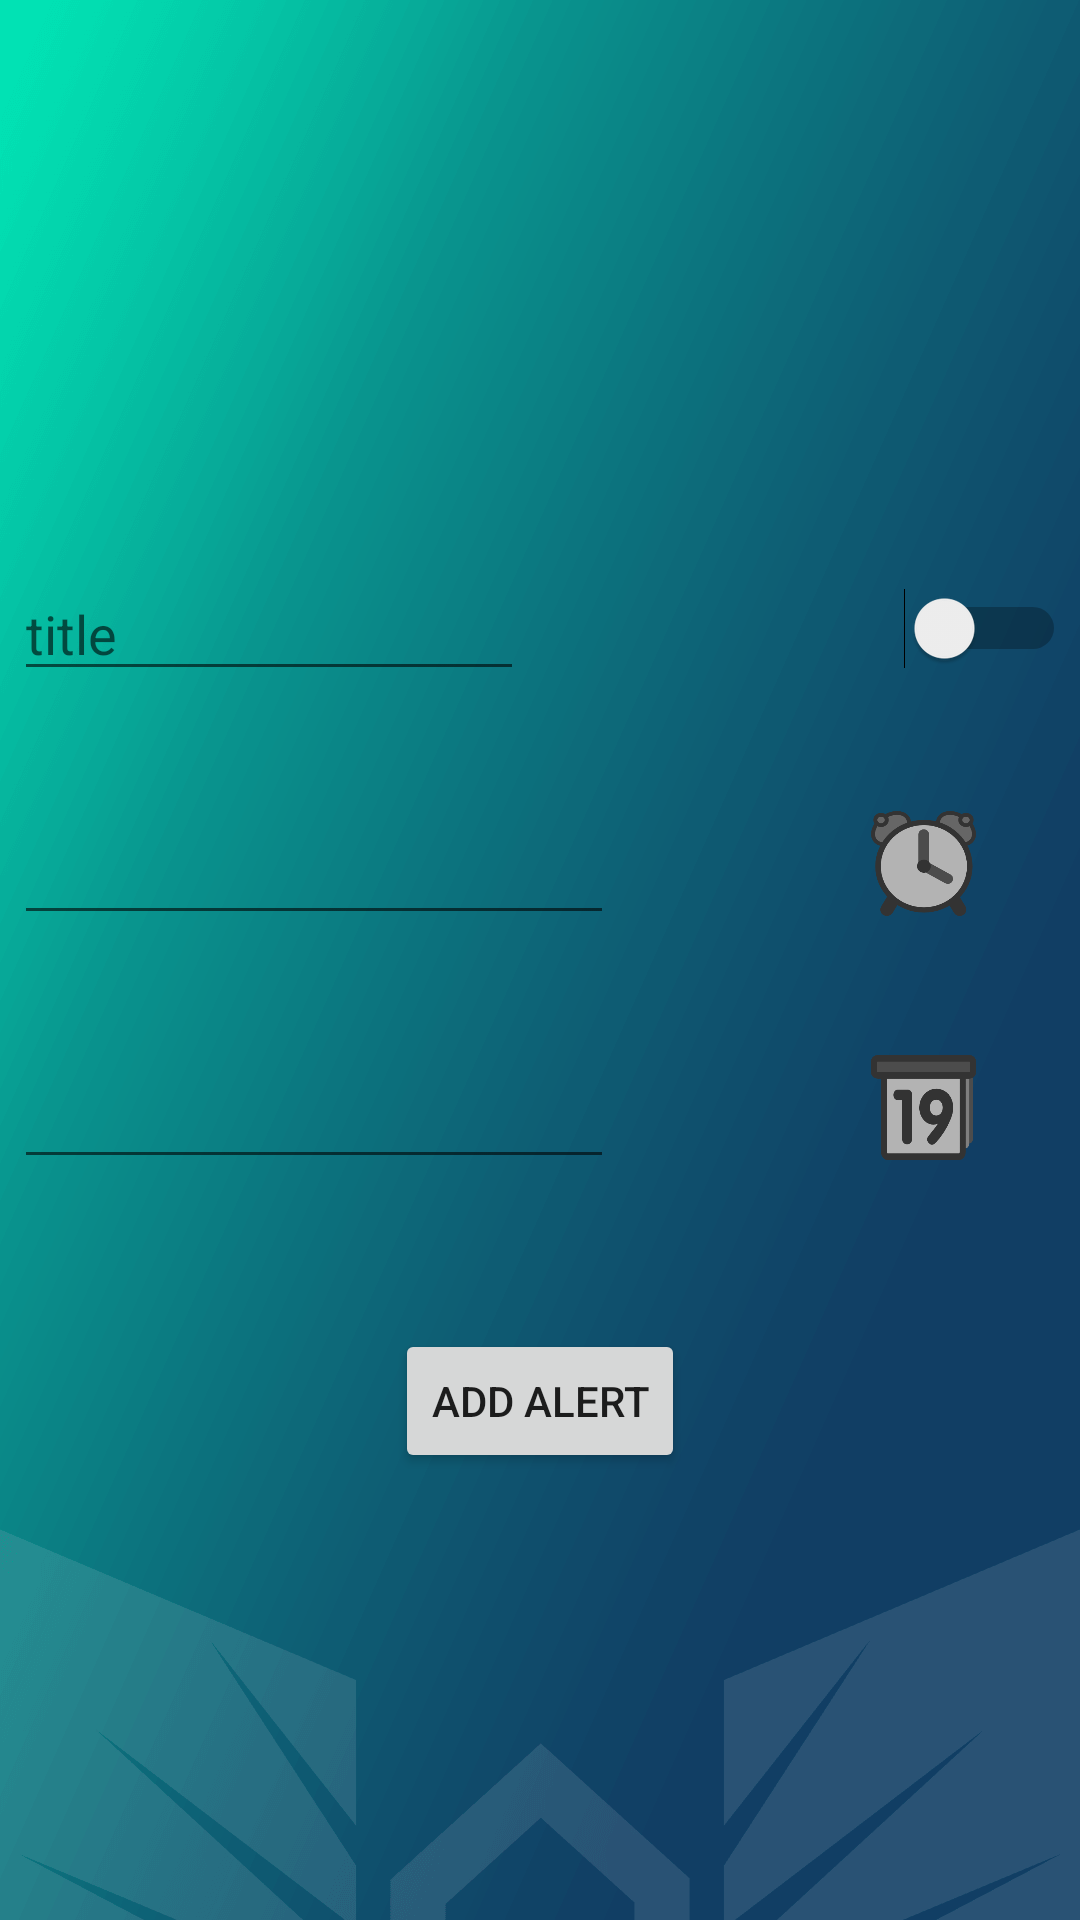

Screen size 1080 x 1920. Icon name, then its box in pixels as (x1, y1, x2, y2):
date: (871, 1055, 976, 1160)
time: (871, 811, 976, 916)
